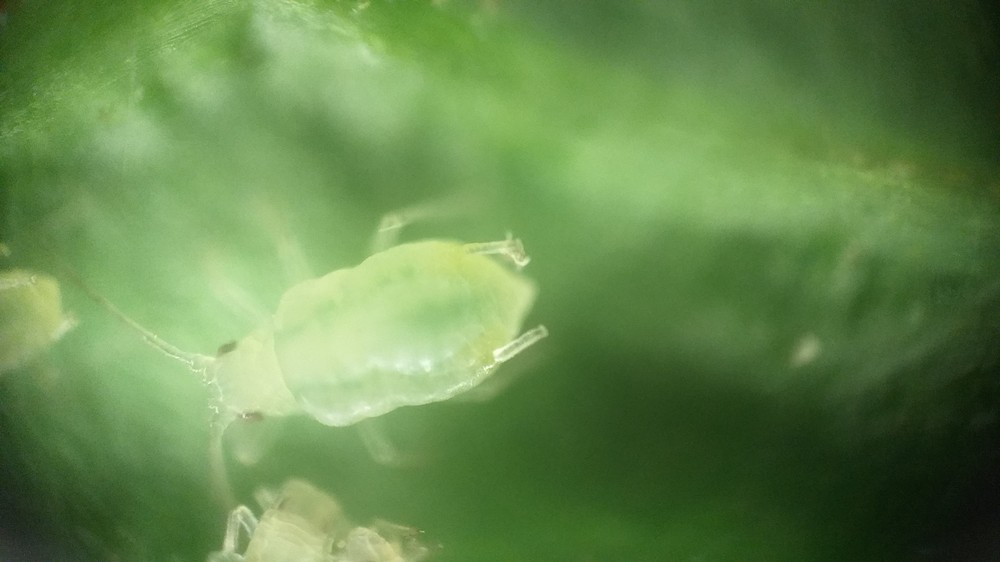Pulgon: (88, 209, 569, 492)
